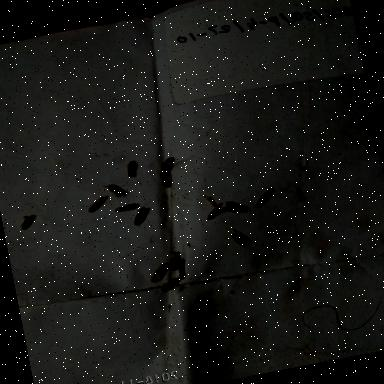pbw: (12, 206, 46, 237), (120, 152, 150, 187), (169, 254, 201, 283), (160, 242, 190, 272), (155, 272, 192, 296), (222, 194, 254, 220), (100, 179, 132, 205), (78, 192, 110, 218), (251, 184, 282, 210), (202, 198, 232, 223), (228, 226, 255, 252), (152, 166, 180, 191), (144, 258, 170, 284), (130, 204, 156, 227), (116, 196, 144, 216), (160, 154, 180, 173)
